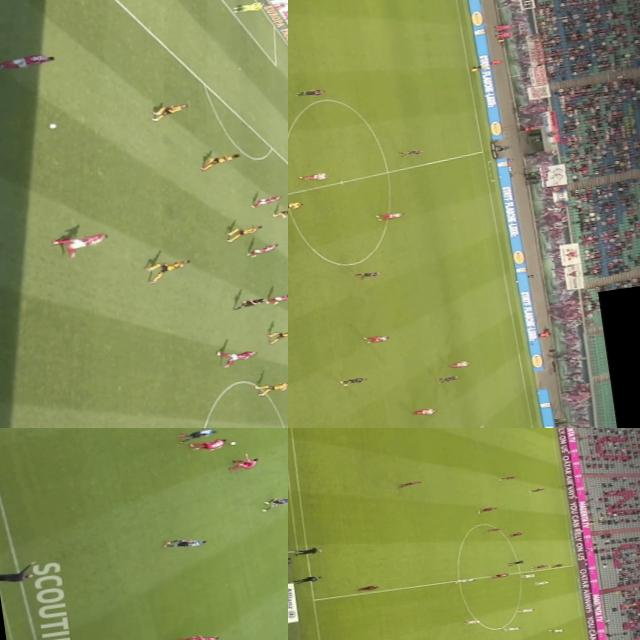ball: (44, 120, 61, 134), (229, 440, 239, 446), (496, 574, 504, 579)
player: (146, 256, 200, 283), (57, 233, 107, 259), (0, 52, 56, 72), (146, 100, 188, 122), (214, 348, 260, 368), (202, 150, 242, 170), (227, 222, 265, 241), (292, 168, 335, 184), (173, 428, 220, 442), (167, 536, 208, 550), (256, 379, 288, 396), (226, 456, 264, 470), (190, 439, 229, 452), (252, 192, 283, 208), (246, 244, 276, 258), (397, 146, 426, 160), (373, 209, 402, 223), (336, 376, 369, 388), (174, 632, 223, 640), (232, 1, 264, 13), (353, 268, 385, 280), (265, 329, 288, 345), (260, 496, 288, 509), (361, 335, 391, 347), (298, 88, 327, 100), (446, 359, 472, 372), (432, 375, 462, 385), (412, 406, 441, 416), (270, 291, 288, 304), (274, 205, 288, 219), (357, 583, 378, 592), (476, 506, 499, 514), (400, 480, 420, 489), (514, 607, 535, 615), (498, 474, 518, 482), (453, 577, 475, 584), (528, 486, 547, 494), (506, 531, 525, 539), (482, 526, 503, 533), (547, 561, 564, 569), (490, 573, 509, 580), (502, 626, 520, 633), (530, 564, 546, 571), (462, 619, 480, 625), (518, 574, 536, 580), (533, 580, 551, 586), (548, 628, 564, 634)
